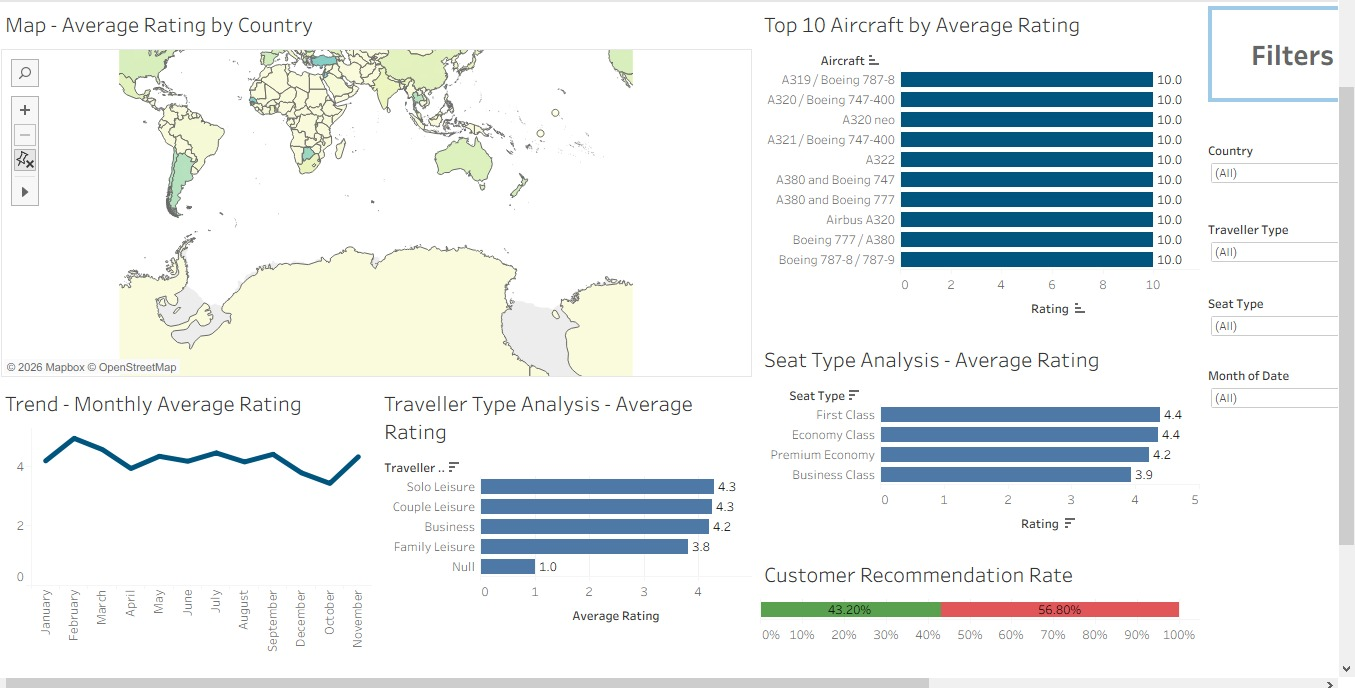

The dashboard page shown, as its layout file describes it:
{"tool":"tableau","page":{"name":"Dashboard 1","canvas":[1400,900],"ordinal":0},"visuals":[{"type":"image","param":"C:/Users/satya/Downloads/BA.jpeg","box":[8,8,187,85]},{"type":"text","box":[195,8,1197,85]},{"type":"worksheet","title":"Sheet 2","mark":"Automatic","box":[8,93,173.4,132]},{"type":"worksheet","title":"Sheet 1","mark":"Automatic","box":[181.4,93,173.4,132]},{"type":"worksheet","title":"Sheet 3","mark":"Automatic","box":[354.8,93,173.4,132]},{"type":"worksheet","title":"Sheet 3 (2)","mark":"Automatic","box":[528.2,93,152,132]},{"type":"worksheet","title":"Sheet 3 (4)","mark":"Automatic","box":[680.2,93,188,132]},{"type":"worksheet","title":"Sheet 3 (3)","mark":"Automatic","box":[868.2,93,173.4,132]},{"type":"worksheet","title":"Sheet 8","mark":"Automatic","box":[1041.6,93,173.4,132]},{"type":"worksheet","title":"Sheet 9","mark":"Automatic","box":[1215,93,177,132]},{"type":"worksheet","title":"Sheet 10","mark":"Multipolygon","box":[8,225,759,379]},{"type":"worksheet","title":"Sheet 12","mark":"Bar","rows":["aircraft"],"cols":["rating"],"box":[767,225,448,335]},{"type":"text","box":[1215,225,177,104]},{"type":"blank","box":[1215,329,177,32]},{"type":"filter","title":"Sheet 10","param":"[federated.0eztu1705xy4j316wc26v1tuodfn].[none:Country:nk]","box":[1215,361,177,79]},{"type":"filter","title":"Sheet 13","param":"[federated.0eztu1705xy4j316wc26v1tuodfn].[none:traveller_type:nk]","box":[1215,440,177,74]},{"type":"filter","title":"Sheet 14","param":"[federated.0eztu1705xy4j316wc26v1tuodfn].[none:seat_type:nk]","box":[1215,514,177,72]},{"type":"worksheet","title":"Sheet 14","mark":"Bar","rows":["seat_type"],"cols":["rating"],"box":[767,560,448,215]},{"type":"filter","title":"Sheet 11","param":"[federated.0eztu1705xy4j316wc26v1tuodfn].[mn:date:ok]","box":[1215,586,177,52]},{"type":"worksheet","title":"Sheet 11","mark":"Line","rows":["rating"],"cols":["date"],"box":[8,604,379.5,288]},{"type":"worksheet","title":"Sheet 13","mark":"Bar","rows":["traveller_type"],"cols":["rating"],"box":[387.4,604,379.5,256]},{"type":"worksheet","title":"Sheet 15","mark":"Automatic","cols":["ba_reviews.csv_9D777267AD1041C988D09801E44AF2D8"],"box":[767,775,448,117]}]}

Visuals, with their boxes on the page's 1400x900 design canvas (x1, y1, x2, y2). These are canvas units, not pixel positions in the 1355x688 screenshot, which may show the page scaled, cropped or inside an application window:
image: crop(8, 8, 195, 93)
text: crop(195, 8, 1392, 93)
"Sheet 2" worksheet: crop(8, 93, 181, 225)
"Sheet 1" worksheet: crop(181, 93, 355, 225)
"Sheet 3" worksheet: crop(355, 93, 528, 225)
"Sheet 3 (2)" worksheet: crop(528, 93, 680, 225)
"Sheet 3 (4)" worksheet: crop(680, 93, 868, 225)
"Sheet 3 (3)" worksheet: crop(868, 93, 1042, 225)
"Sheet 8" worksheet: crop(1042, 93, 1215, 225)
"Sheet 9" worksheet: crop(1215, 93, 1392, 225)
"Sheet 10" worksheet (Multipolygon marks): crop(8, 225, 767, 604)
"Sheet 12" worksheet (Bar marks): crop(767, 225, 1215, 560)
text: crop(1215, 225, 1392, 329)
blank: crop(1215, 329, 1392, 361)
"Sheet 10" filter: crop(1215, 361, 1392, 440)
"Sheet 13" filter: crop(1215, 440, 1392, 514)
"Sheet 14" filter: crop(1215, 514, 1392, 586)
"Sheet 14" worksheet (Bar marks): crop(767, 560, 1215, 775)
"Sheet 11" filter: crop(1215, 586, 1392, 638)
"Sheet 11" worksheet (Line marks): crop(8, 604, 388, 892)
"Sheet 13" worksheet (Bar marks): crop(387, 604, 767, 860)
"Sheet 15" worksheet: crop(767, 775, 1215, 892)
